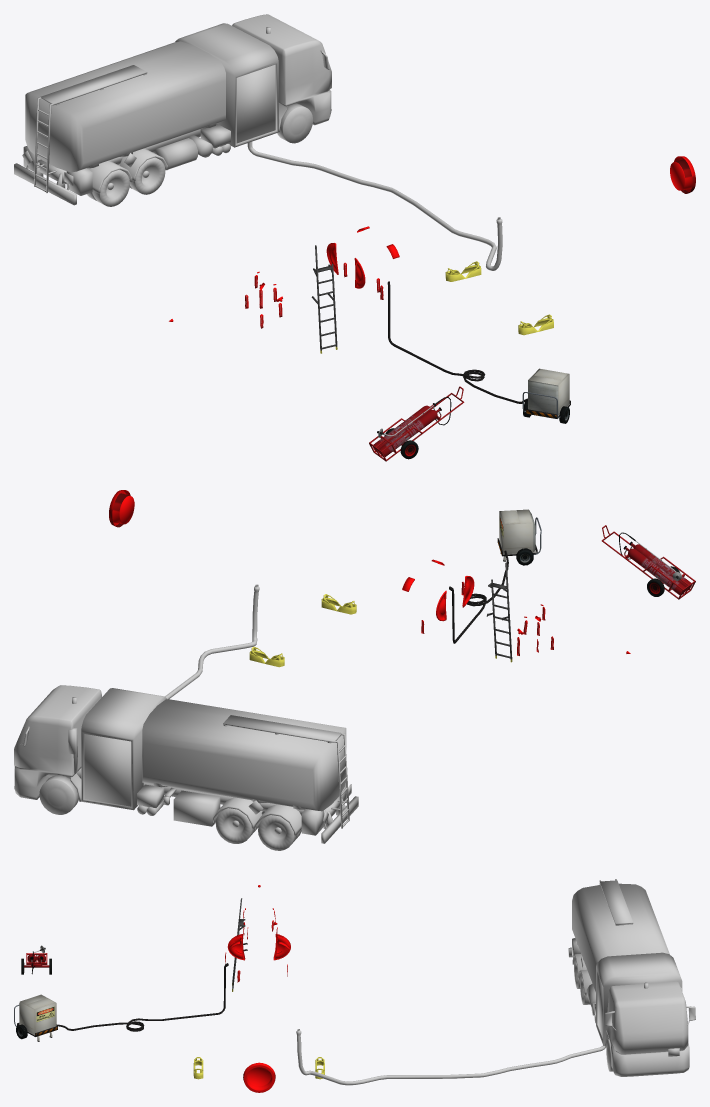
File: parking.fbx
3 renders of one model, top to bottom at view 1: azimuth 30°, elevation 25°; view 2: azimuth 150°, elevation 25°; view 3: azimuth 270°, elevation 25°, orthographic. The views are drawn at different scales.
Visible parts, largest first — view 1: fuel-truck.tank, fuel-truck.base, parking, extincteur, external-power-unit.box, fuel-truck.pipe, external-power-unit.wire; view 2: fuel-truck.tank, fuel-truck.base, parking, extincteur, external-power-unit.box, fuel-truck.pipe, external-power-unit.wire; view 3: fuel-truck.tank, fuel-truck.base, parking, fuel-truck.pipe, external-power-unit.box, external-power-unit.wire, extincteur.
Part boxes in pixels (box(x1,y1,x2,y2)): fuel-truck.tank: box(22, 23, 278, 192); fuel-truck.base: box(14, 14, 331, 206); parking: box(169, 156, 695, 353); extincteur: box(369, 386, 464, 461); external-power-unit.box: box(522, 368, 570, 423); fuel-truck.pipe: box(247, 141, 502, 270); external-power-unit.wire: box(387, 281, 527, 403); fuel-truck.tank: box(14, 688, 351, 828); fuel-truck.base: box(14, 685, 358, 850); parking: box(109, 490, 630, 667); extincteur: box(601, 525, 695, 599); external-power-unit.box: box(497, 509, 541, 565); fuel-truck.pipe: box(165, 584, 259, 699); external-power-unit.wire: box(449, 550, 508, 643); fuel-truck.tank: box(572, 879, 682, 1056); fuel-truck.base: box(568, 938, 695, 1076); parking: box(193, 885, 324, 1092); fuel-truck.pipe: box(296, 1029, 605, 1085); external-power-unit.box: box(14, 994, 57, 1041); external-power-unit.wire: box(56, 963, 228, 1031); extincteur: box(21, 945, 51, 974).
Bounding box in the file's own units: 1376 × 1875 × 286.
